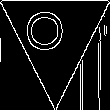O_E: (33, 15, 77, 58)
